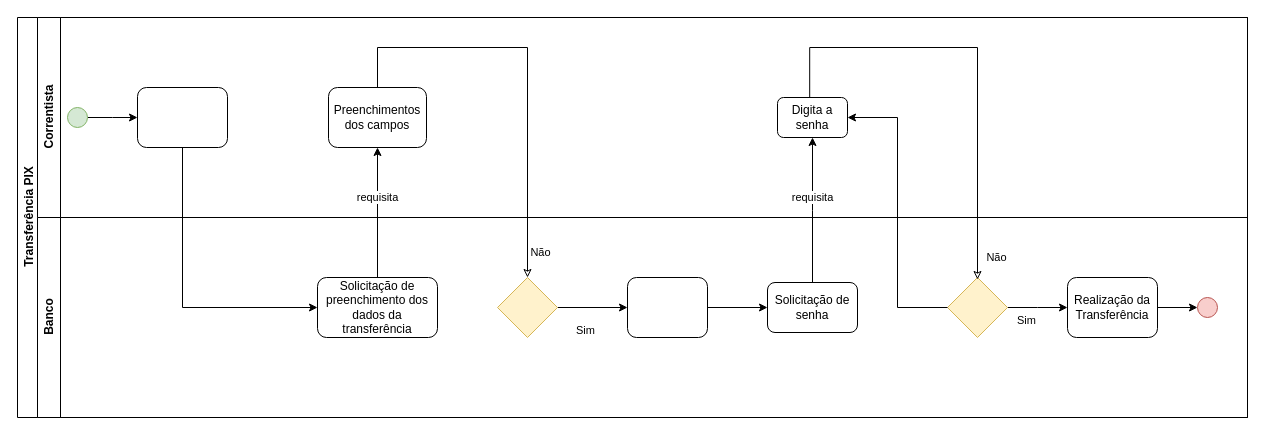
Some shapes in this 1265 by 435 pixel diagram are drawn without their labels. Each missing label, with the box of its shape:
Resumo da transferência: (626, 276, 708, 338)
Senha válida?: (946, 276, 1008, 338)
Solicitação de pagamento: (136, 86, 228, 148)
Válido?: (496, 276, 558, 338)
